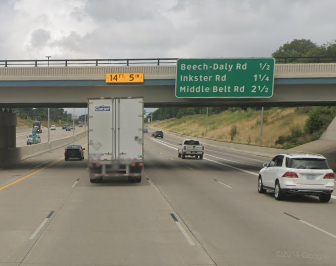1: (107, 73, 114, 83)
4: (111, 72, 120, 83)
5: (127, 72, 136, 82)
overheadsign: (103, 72, 145, 83)
